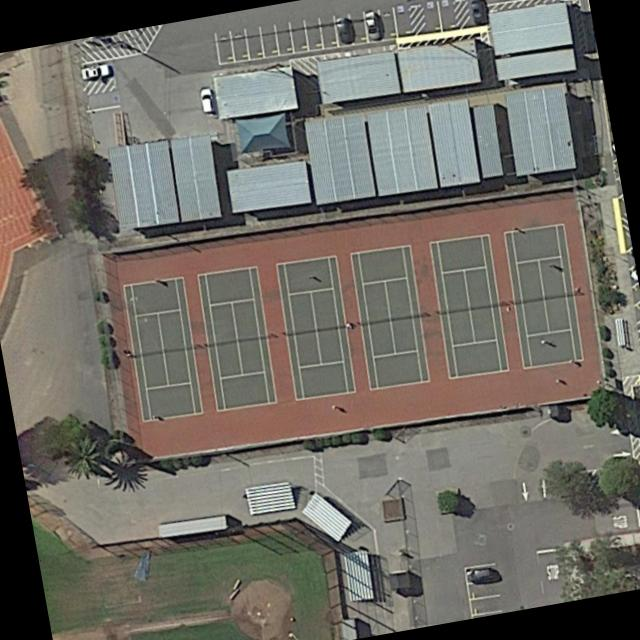small-vehicle: (78, 61, 110, 80), (464, 564, 494, 583), (363, 9, 380, 39), (198, 85, 214, 112), (334, 15, 349, 41), (470, 0, 483, 25)
